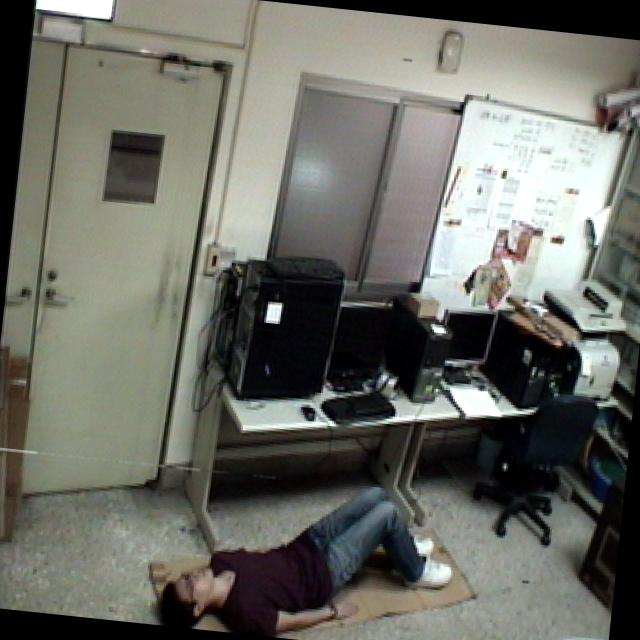lie: (148, 459, 464, 640)
